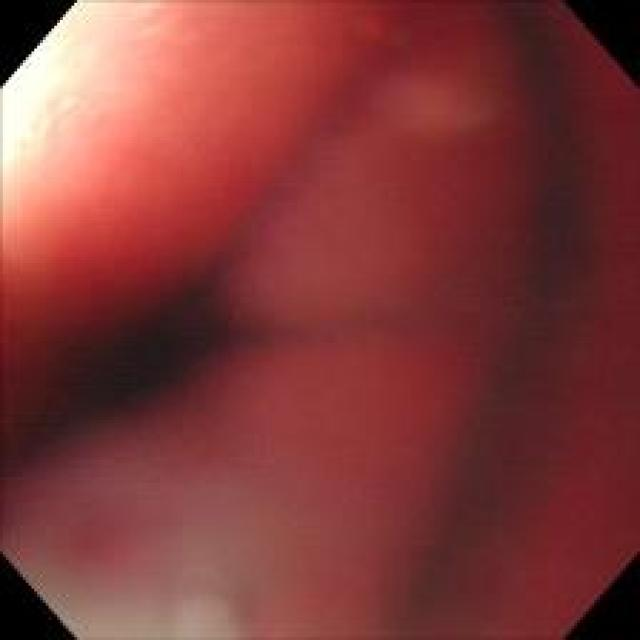blur: (1, 2, 638, 636)
color misalignment: (501, 25, 601, 454), (440, 442, 519, 628), (166, 568, 251, 631)
contrast: (19, 244, 264, 452)
saturation: (1, 1, 119, 156)
